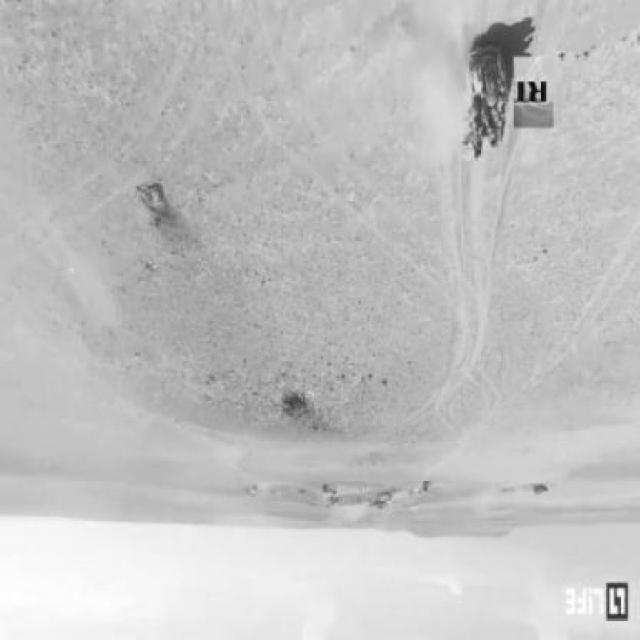Vehicle: (463, 41, 517, 163)
